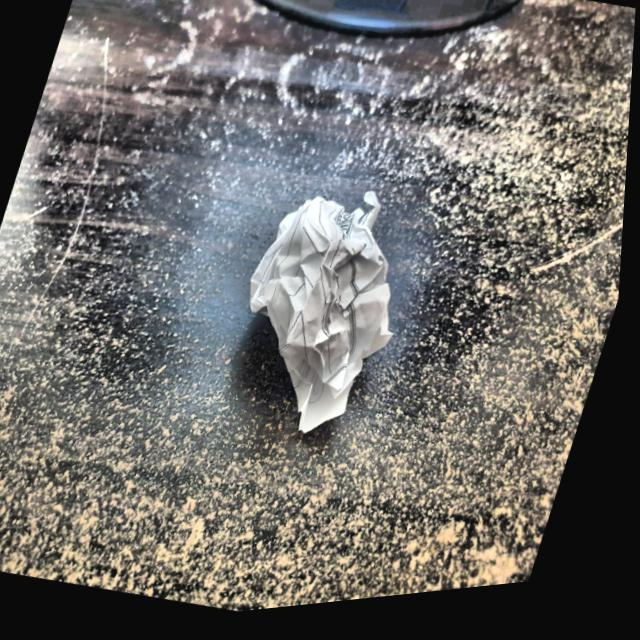Paper: (207, 170, 451, 471)
